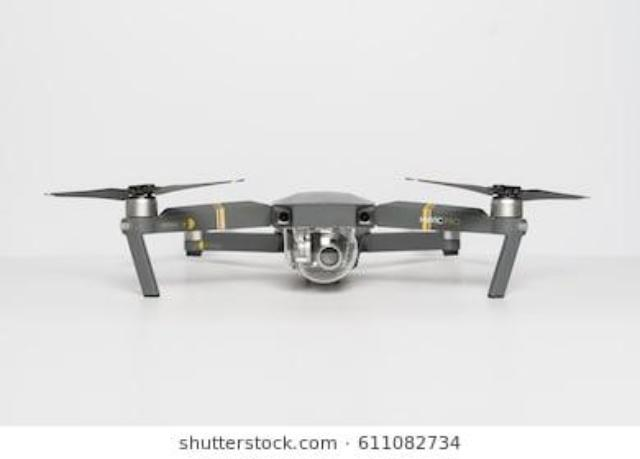drone: (42, 138, 590, 318)
